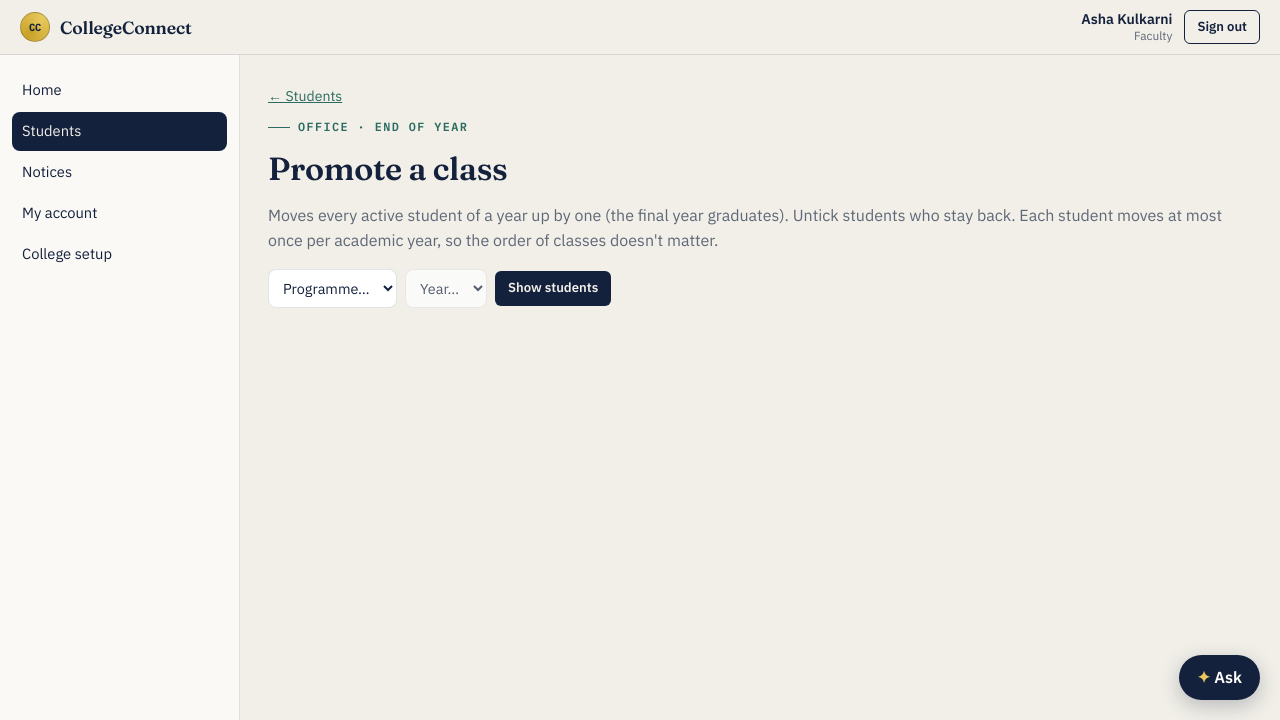
Test: promotion › previews, holds a student back and promotes with a reason
The width and height of the screenshot is (1280, 720).
Select "BCA" in the dropdown named "Programme": (332, 288) [268,269,397,308]
Select "FY" in the dropdown named "Year": (446, 288) [405,269,487,308]
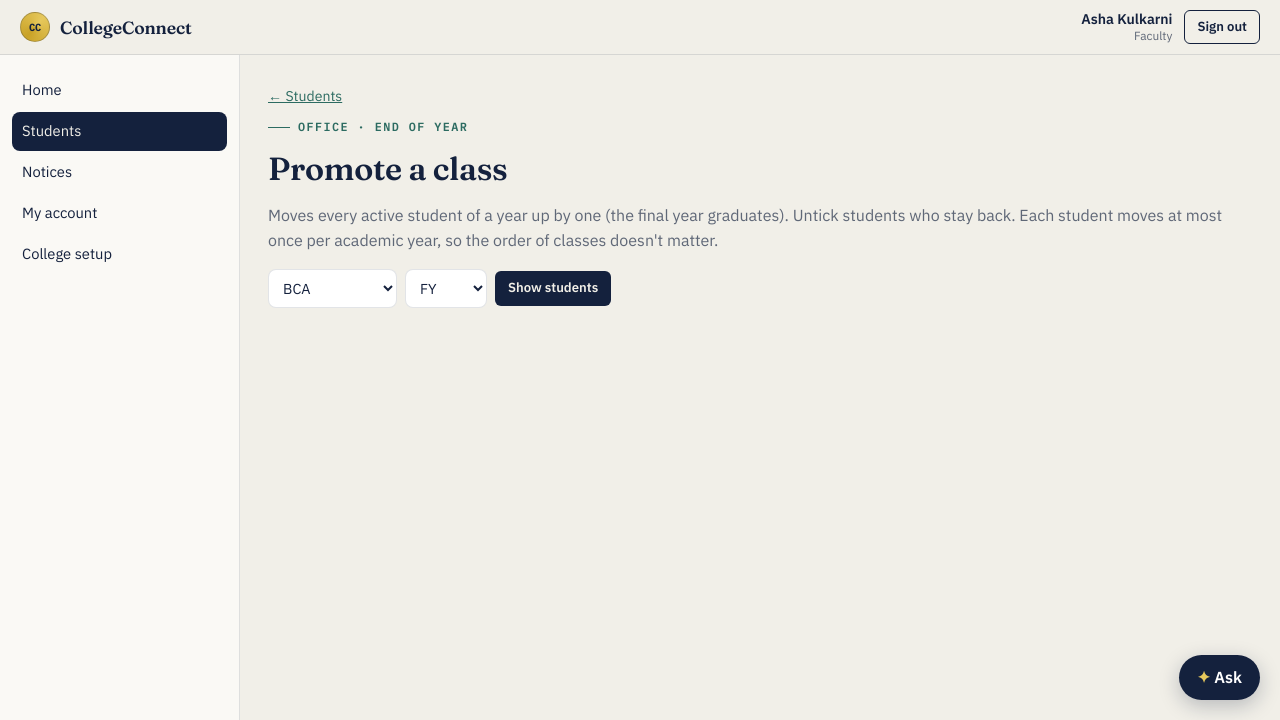
Click the button "Show students": (553, 288) [495,271,611,306]
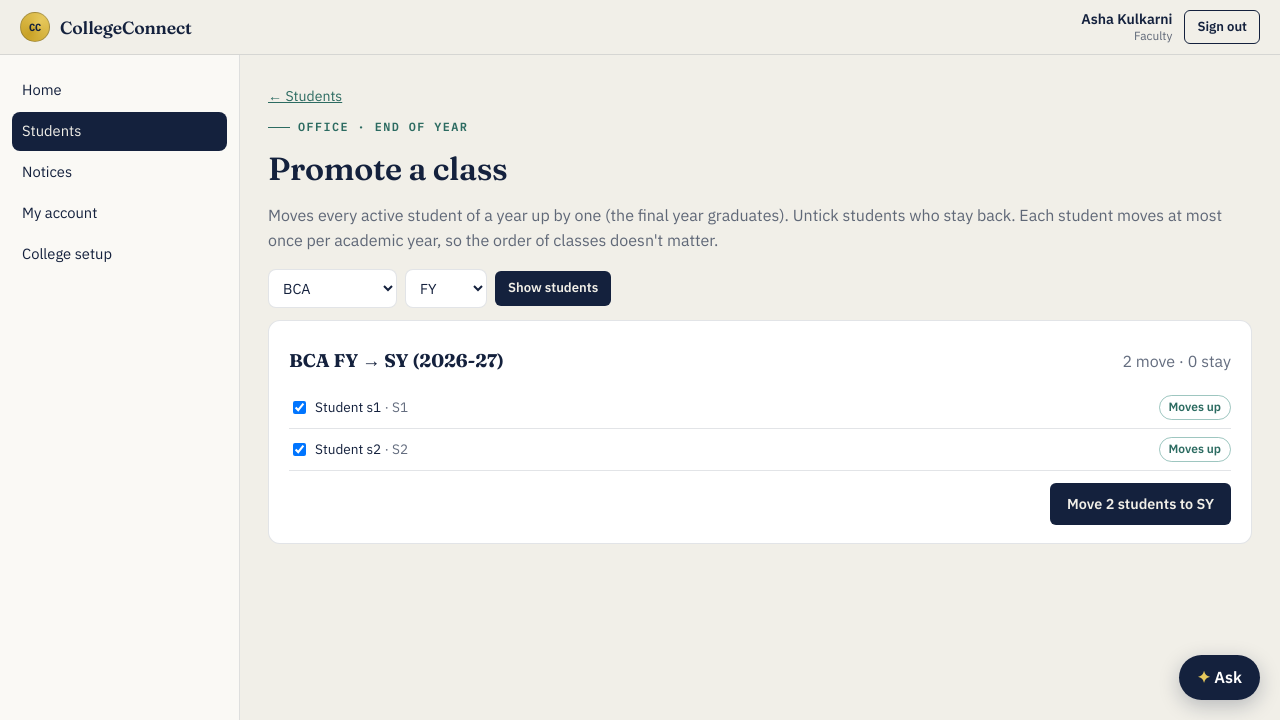
Click the checkbox labelled "Student s2 · S2": (300, 449) [293,443,306,456]
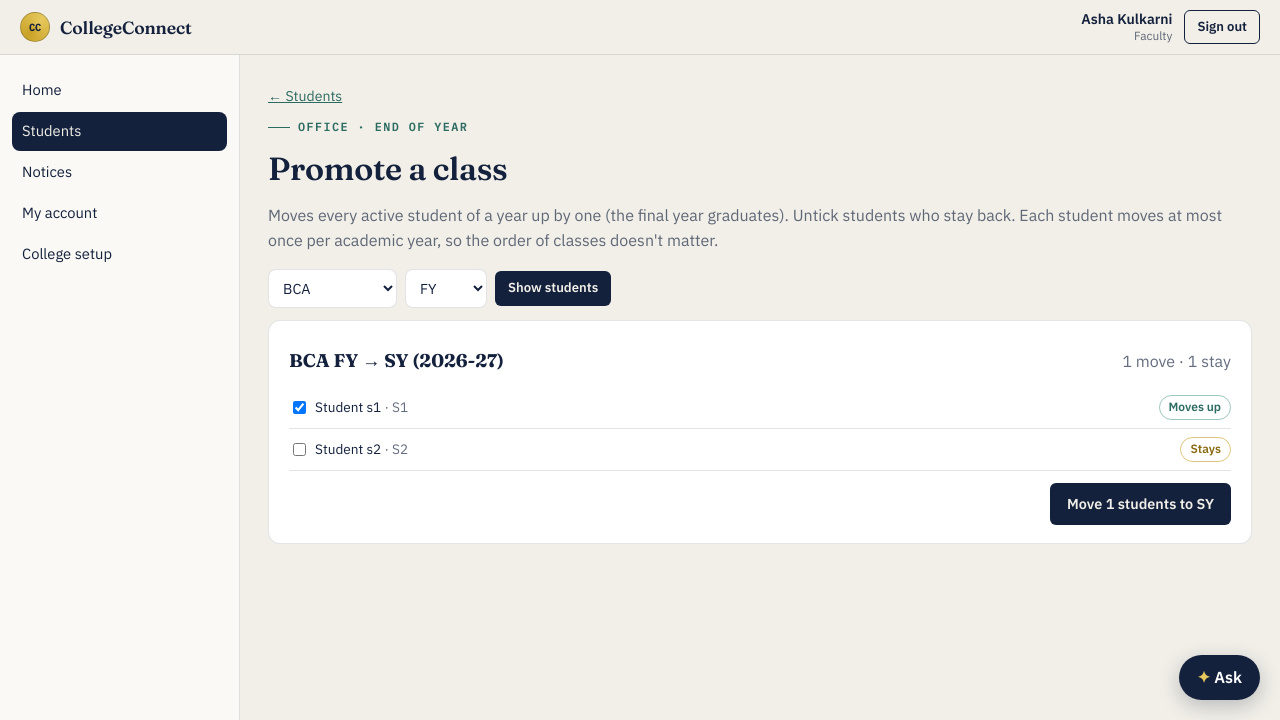
Now the button "Move 1 students to SY" is shown
Click the button "Move 1 students to SY": (1141, 504) [1050,483,1231,525]
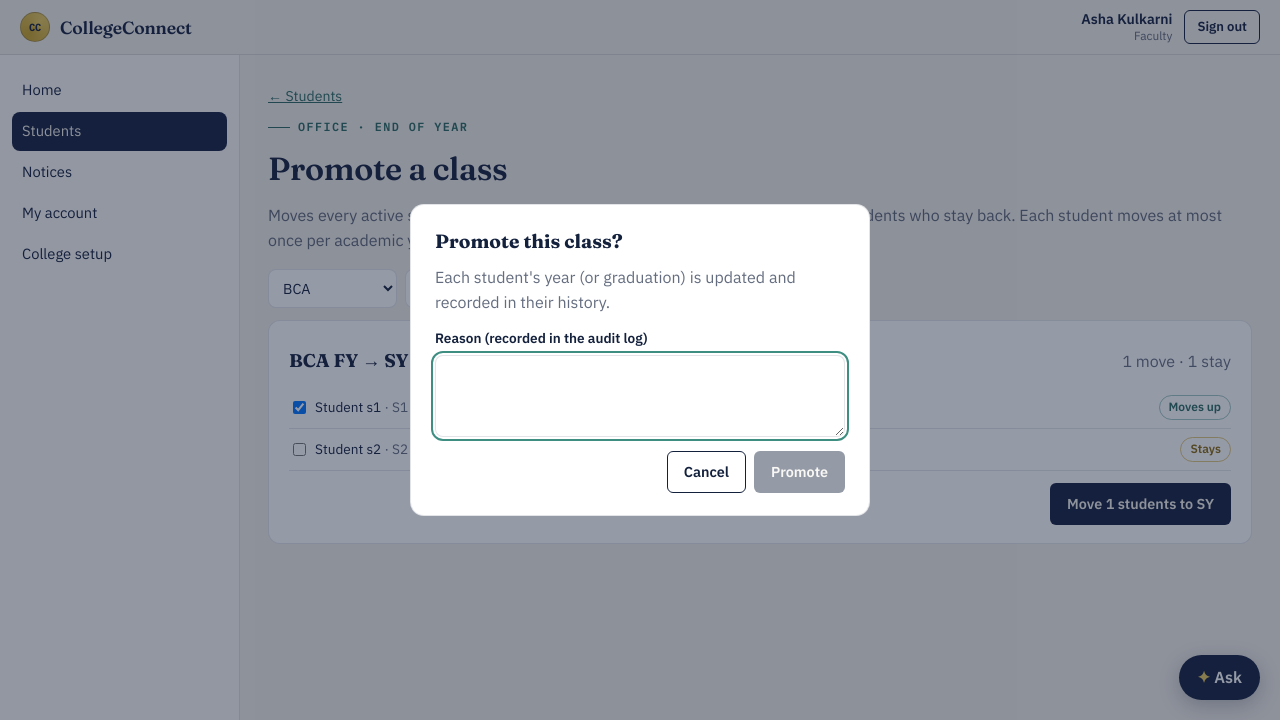
In the text box: (640, 396) [435,355,845,437], type "Results declared"
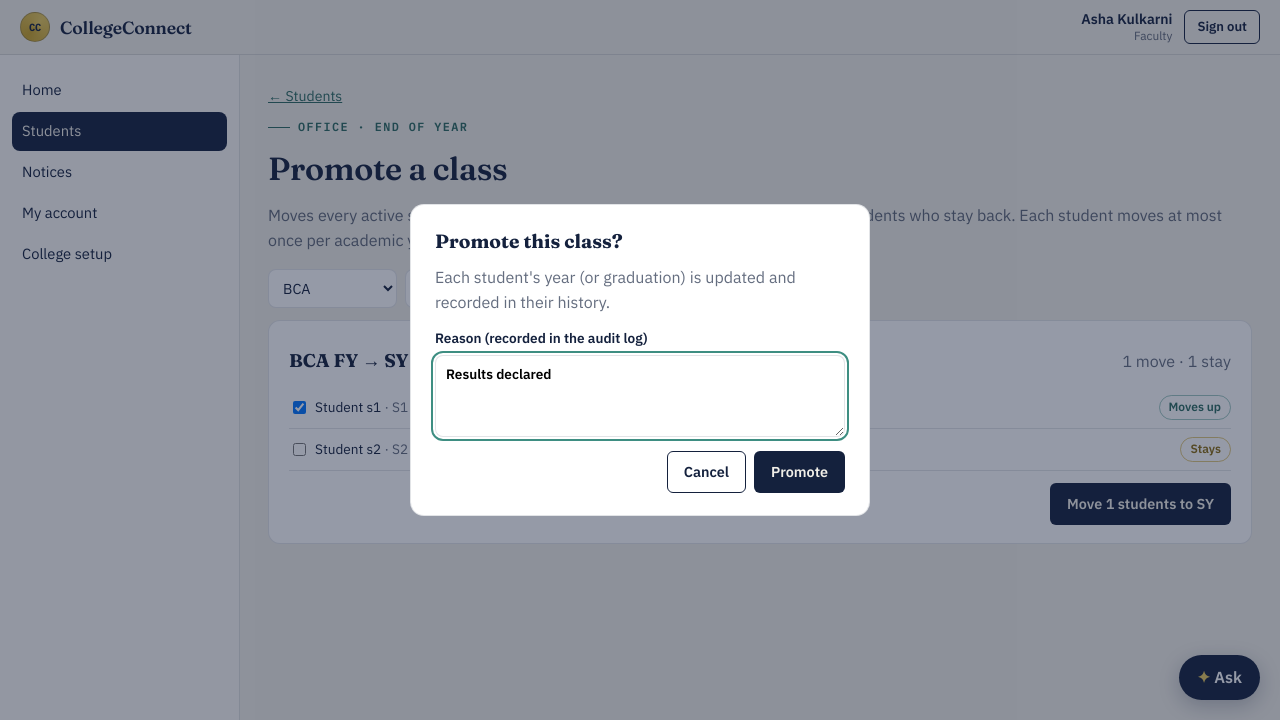
Click the button "Promote": (800, 472) [754,451,845,493]
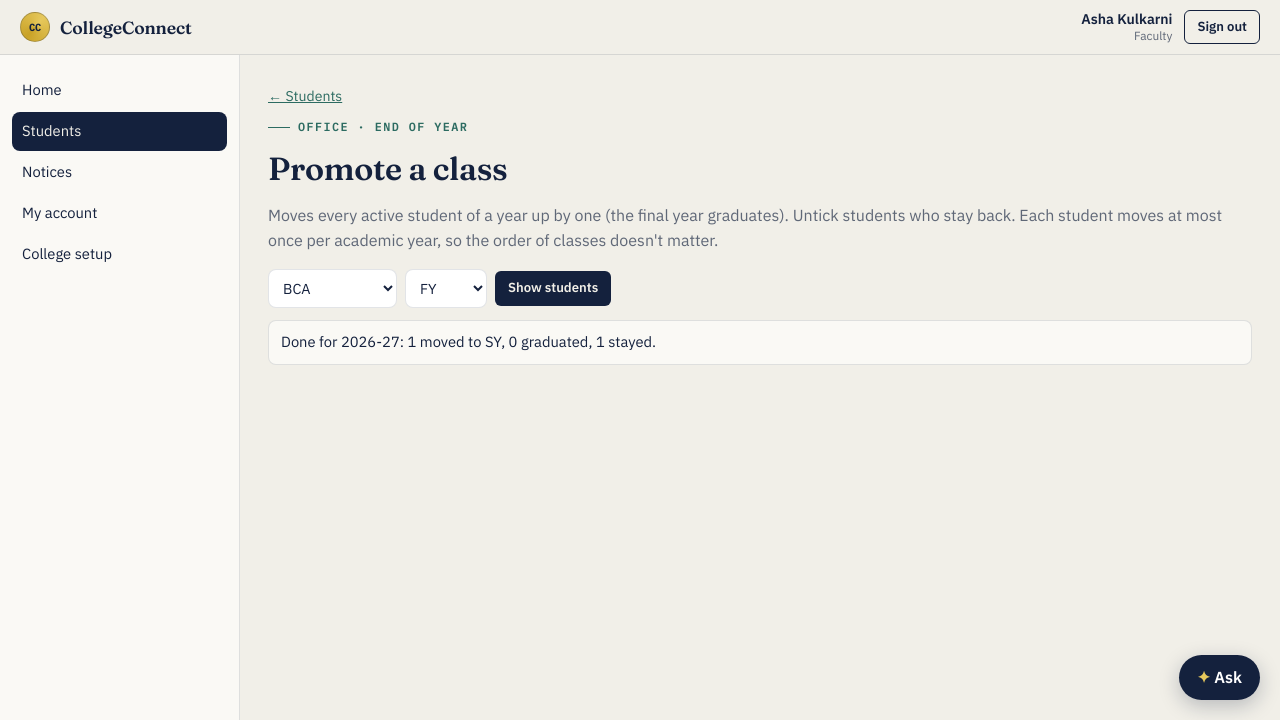
Now the message "Done for 2026-27: 1 moved to SY, 0 graduated, 1 stayed." is shown, box [268,320,1252,365]
